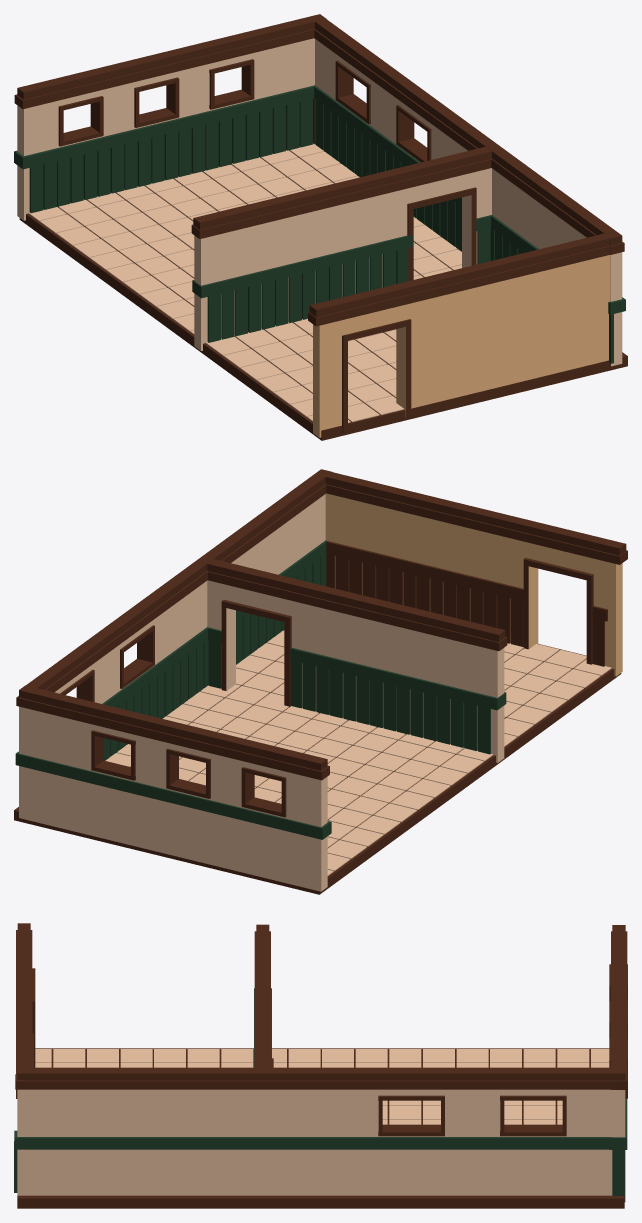
The model's file is Foodshop_Interior.fbx.
3 views of the same model, one above another, from view 1: azimuth 30°, elevation 25°; view 2: azimuth 150°, elevation 25°; view 3: azimuth 270°, elevation 25° (orthographic).
Parts seen in each view (by area): view 1: Cube.121, Cube.031, Cube.029, Cube.016, Cube.251; view 2: Cube.031, Cube.121, Cube.016, Cube.029, Cube.251; view 3: Cube.251, Cube.121, Cube.031, Cube.029, Cube.016.
Boxes of the visible parts, x1,y1,x2,y2 form: Cube.121: (19,143,627,440); Cube.031: (14,14,326,220); Cube.029: (308,233,613,437); Cube.016: (191,146,492,350); Cube.251: (313,19,625,366); Cube.031: (15,685,331,891); Cube.121: (14,630,621,894); Cube.016: (206,559,507,762); Cube.029: (325,472,627,676); Cube.251: (26,469,331,760); Cube.251: (14,1067,612,1195); Cube.121: (17,1048,624,1208); Cube.031: (609,925,627,1201); Cube.029: (14,923,35,1192); Cube.016: (254,924,273,1067).
Bounding box in the file's own units: 560 × 226 × 948.
